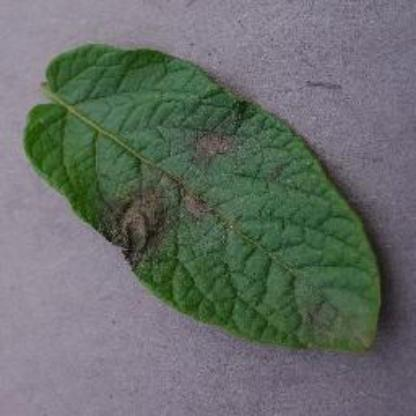Late-Blight: (20, 28, 398, 366)
